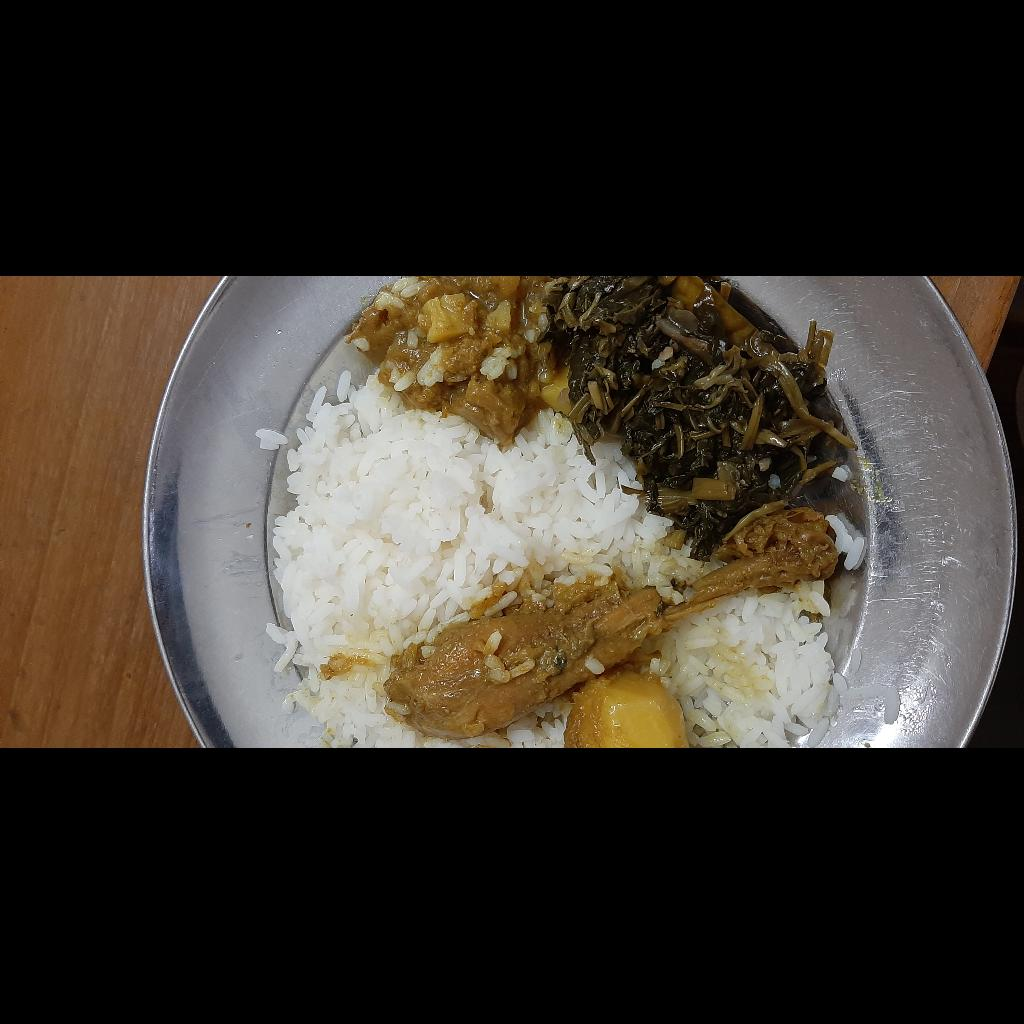chicken: (5, 662, 189, 1024)
potato: (293, 621, 472, 843), (0, 837, 78, 965)
rice: (0, 527, 377, 987), (0, 908, 153, 1024), (0, 759, 51, 849)
shak: (182, 824, 472, 1024)
